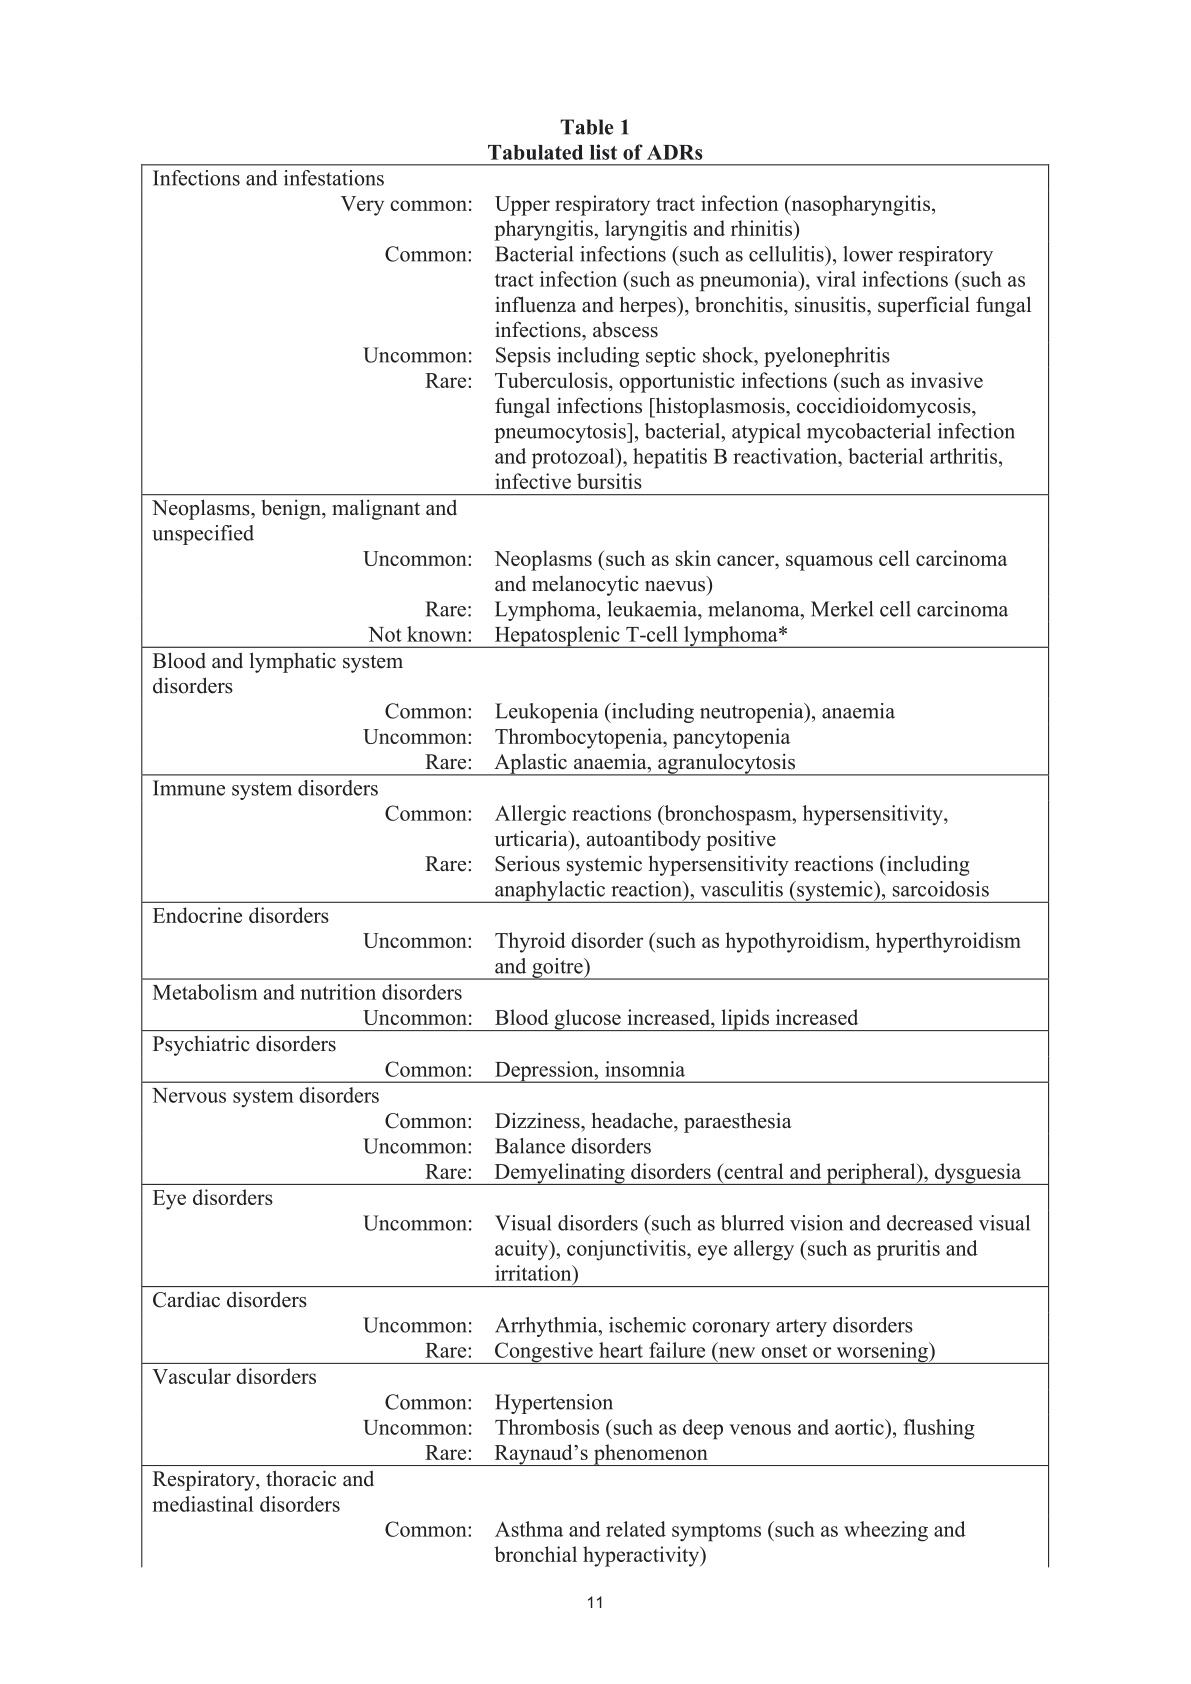partial_lined: (140, 164, 1051, 1574)
